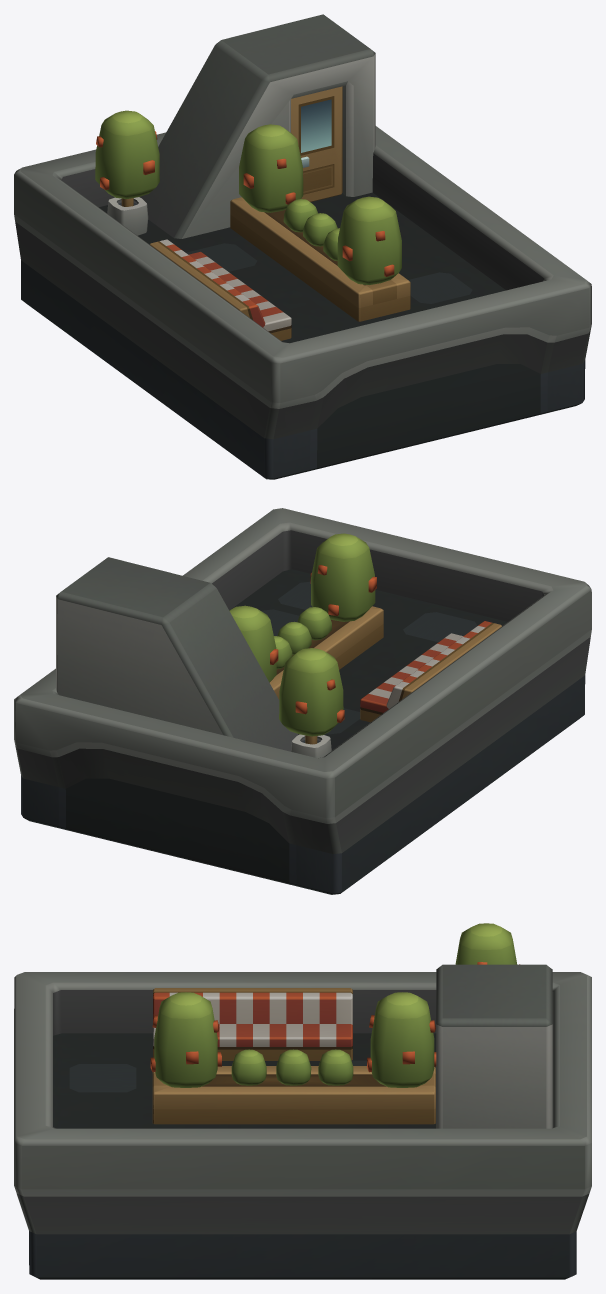
Rendered from appartment_type1_roof_type1_x3_cream_deco.fbx.
The picture shows the model from 3 angles, top to bottom: view 1: azimuth 30°, elevation 25°; view 2: azimuth 150°, elevation 25°; view 3: azimuth 270°, elevation 25°; orthographic projection. The views are drawn at different scales.
Visible parts, largest first — view 1: appartment_type1_roof_type1_x3_cream_deco, door_wood_rooftop_doorway1; view 2: appartment_type1_roof_type1_x3_cream_deco; view 3: appartment_type1_roof_type1_x3_cream_deco.
Boxes of the visible parts, left/top/right/bottom form: appartment_type1_roof_type1_x3_cream_deco: left=14, top=14, right=591, bottom=479; door_wood_rooftop_doorway1: left=291, top=86, right=342, bottom=201; appartment_type1_roof_type1_x3_cream_deco: left=14, top=508, right=591, bottom=894; appartment_type1_roof_type1_x3_cream_deco: left=14, top=923, right=591, bottom=1279.
Size of the model in its own units: 610 by 410 by 867.
